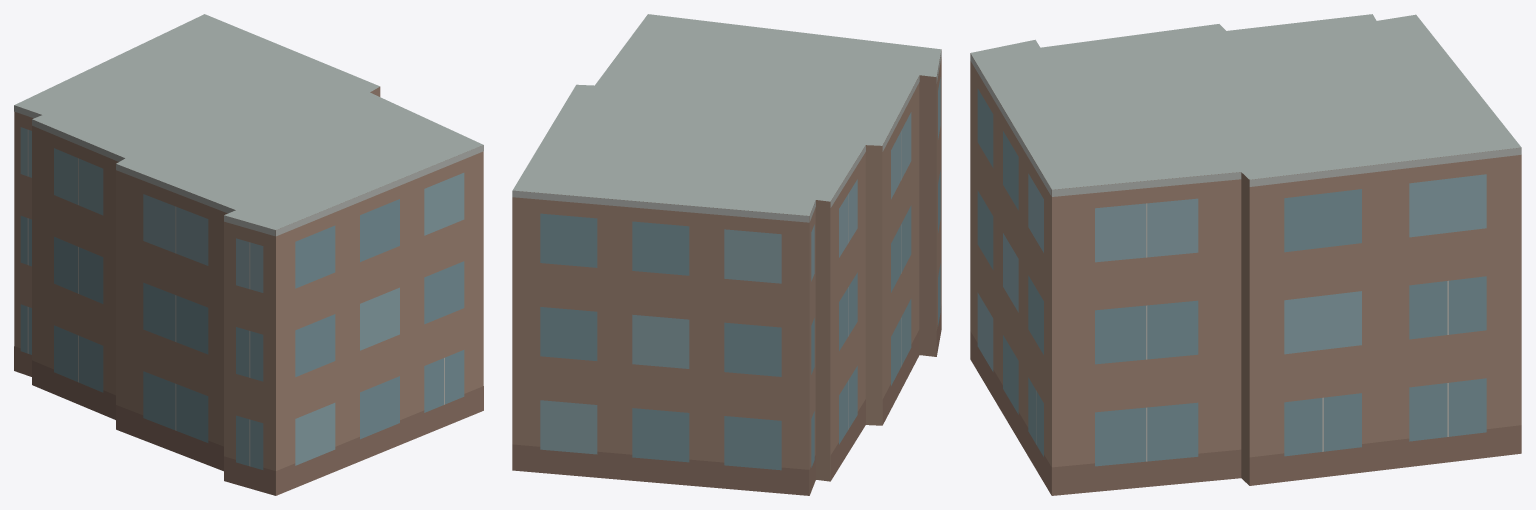
Rendered from survey-upis-32643023.glb.
3 views of the same model, side by side, from view 1: azimuth 30°, elevation 25°; view 2: azimuth 150°, elevation 25°; view 3: azimuth 270°, elevation 25° (orthographic). The views are drawn at different scales.
Parts seen in each view (by area): view 1: survey-upis-32643023.tmp; view 2: survey-upis-32643023.tmp; view 3: survey-upis-32643023.tmp.
Part boxes in pixels (box(x1,y1,x2,y2)): survey-upis-32643023.tmp: box(14, 14, 483, 495); survey-upis-32643023.tmp: box(512, 14, 941, 495); survey-upis-32643023.tmp: box(970, 14, 1521, 495).
Bounding box in the file's own units: 12.56 × 10.2 × 16.66.
